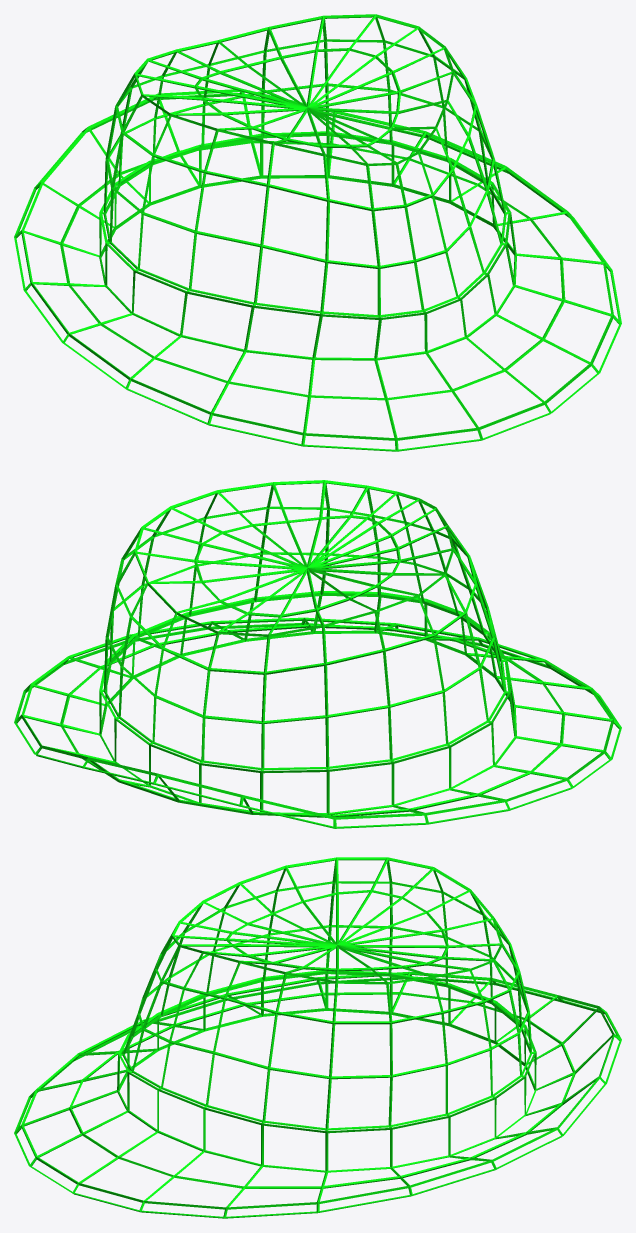
Rendered from chapeu_de_hacker.glb.
3 views of the same model, one above another, from view 1: azimuth 30°, elevation 25°; view 2: azimuth 150°, elevation 25°; view 3: azimuth 270°, elevation 25° (orthographic). The views are drawn at different scales.
Visible parts, largest first — view 1: Object_2; view 2: Object_2; view 3: Object_2.
Boxes of the visible parts, x1,y1,x2,y2 form: Object_2: [14, 14, 621, 451]; Object_2: [14, 480, 621, 828]; Object_2: [14, 857, 621, 1218].
Size of the model in its own units: 3.22 by 1.41 by 3.59.
